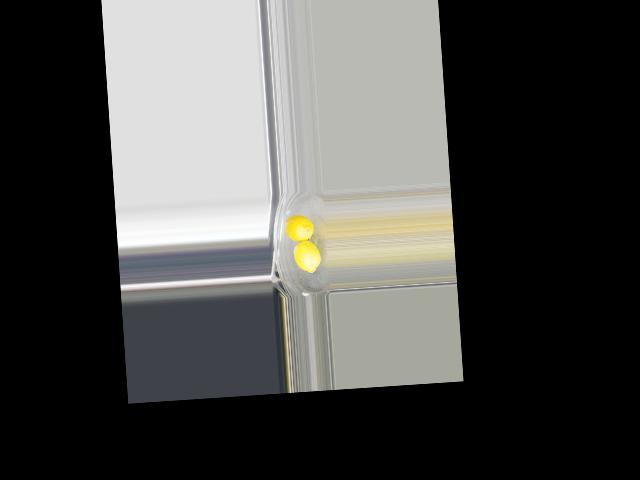lemon: (291, 236, 321, 276)
